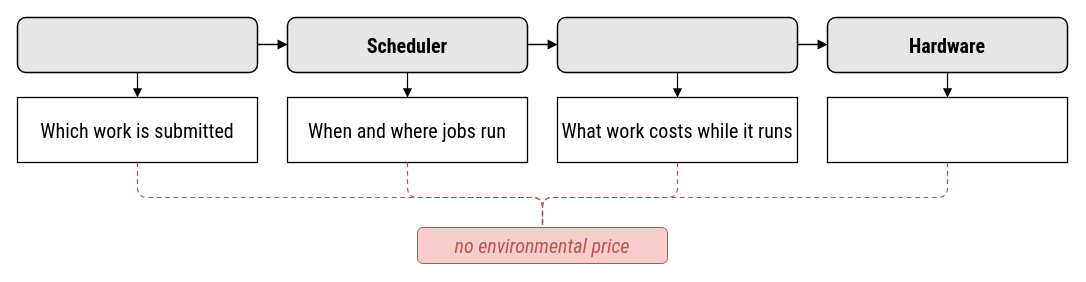
The diagram is 1086 pixels wide and 282 high, and some of its shapes have lost their labels. Here are the shapes that lost their labels. From the top down, the centre of each, then its label:
pixel 137 44: Users
pixel 677 44: Platform
pixel 947 129: How long hardware remains in service
